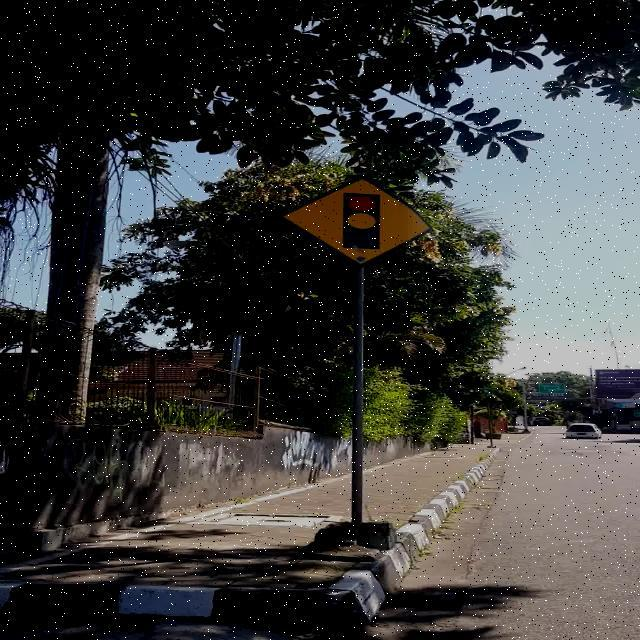Lampu Lalu Lintas: (280, 176, 432, 267)
